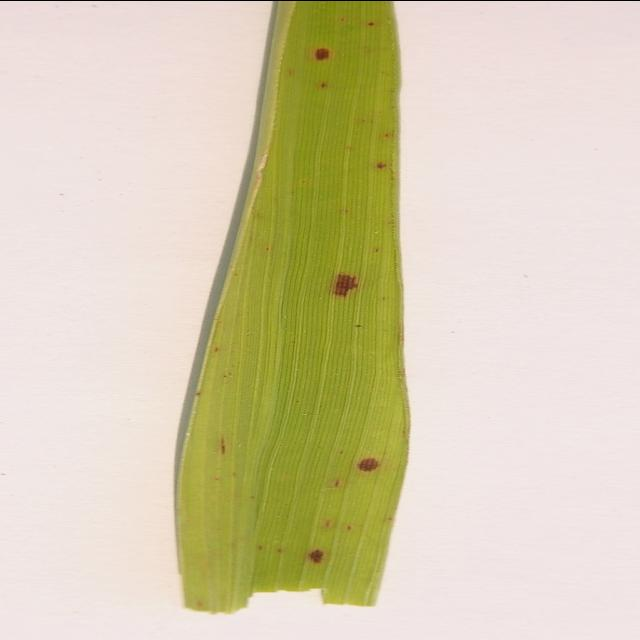Unhealthy: (328, 271, 359, 296), (356, 456, 381, 472), (305, 547, 329, 563), (311, 45, 333, 60), (374, 160, 388, 169), (220, 437, 227, 453), (317, 81, 328, 87)
